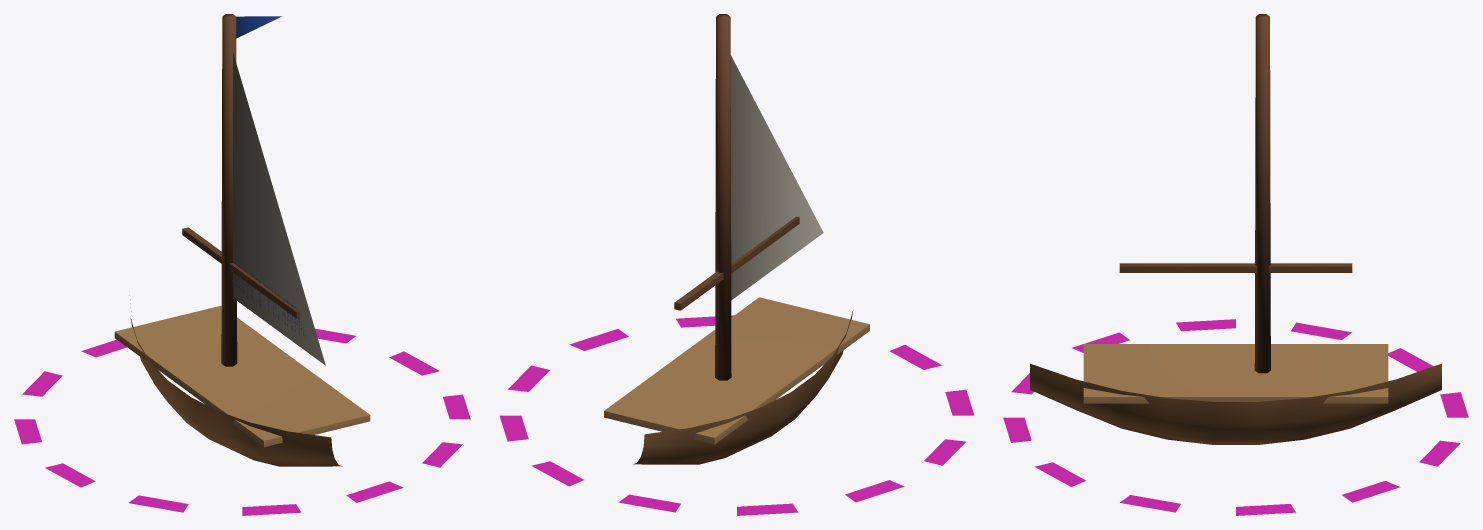
File: barca.glb
The picture shows the model from 3 angles, left to right: view 1: azimuth 30°, elevation 25°; view 2: azimuth 150°, elevation 25°; view 3: azimuth 270°, elevation 25°; orthographic projection. The views are drawn at different scales.
Parts seen in each view (by area): view 1: Corp, Panza, Marcaj_PLACEHOLDER; view 2: Corp, Panza, Marcaj_PLACEHOLDER; view 3: Corp, Marcaj_PLACEHOLDER.
Part boxes in pixels (x1,y1,x2,y2): Corp: (114,14,370,466); Panza: (233,52,325,365); Marcaj_PLACEHOLDER: (14,328,470,515); Corp: (604,14,869,464); Panza: (730,55,823,300); Marcaj_PLACEHOLDER: (499,315,974,515); Corp: (1030,14,1441,444); Marcaj_PLACEHOLDER: (1003,319,1468,515).
Bounding box in the file's own units: 2.6 × 2.6 × 2.6.
